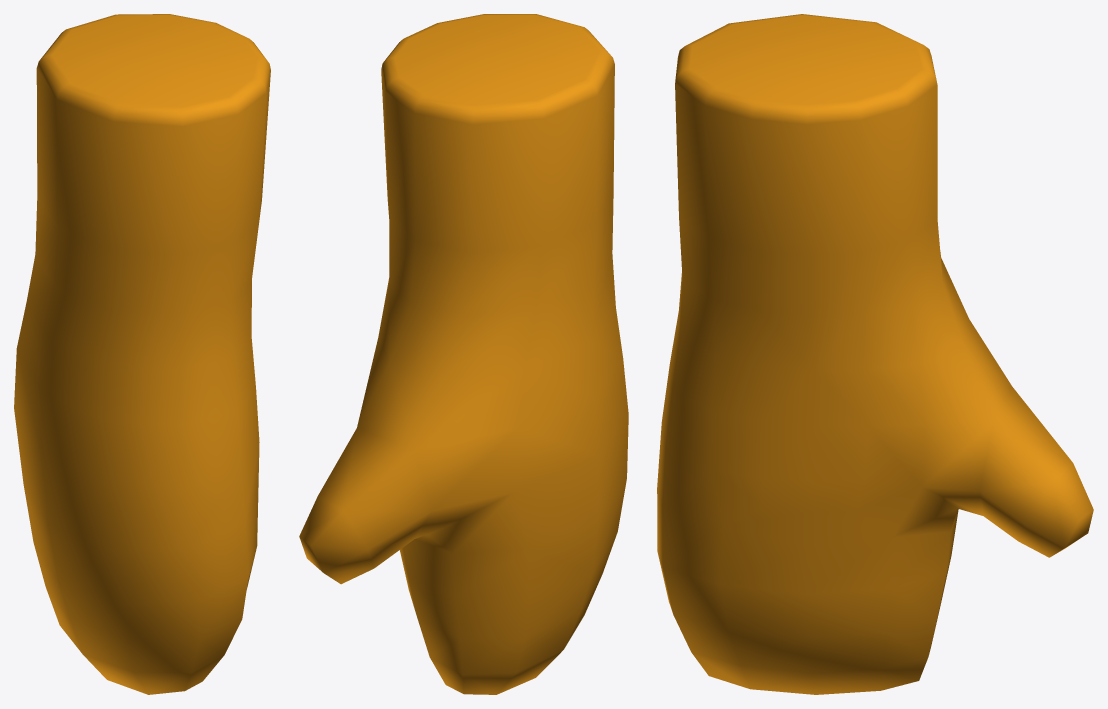
Rendered from GloveDummy.fbx.
3 renders of one model, left to right at view 1: azimuth 30°, elevation 25°; view 2: azimuth 150°, elevation 25°; view 3: azimuth 270°, elevation 25°, orthographic. The views are drawn at different scales.
Visible parts, largest first — view 1: GloveDummy; view 2: GloveDummy; view 3: GloveDummy.
Boxes of the visible parts, bbox=[...] form: GloveDummy: bbox=[14, 14, 270, 694]; GloveDummy: bbox=[299, 14, 628, 694]; GloveDummy: bbox=[657, 14, 1093, 694].
Bounding box in the file's own units: 119 × 335 × 206.
